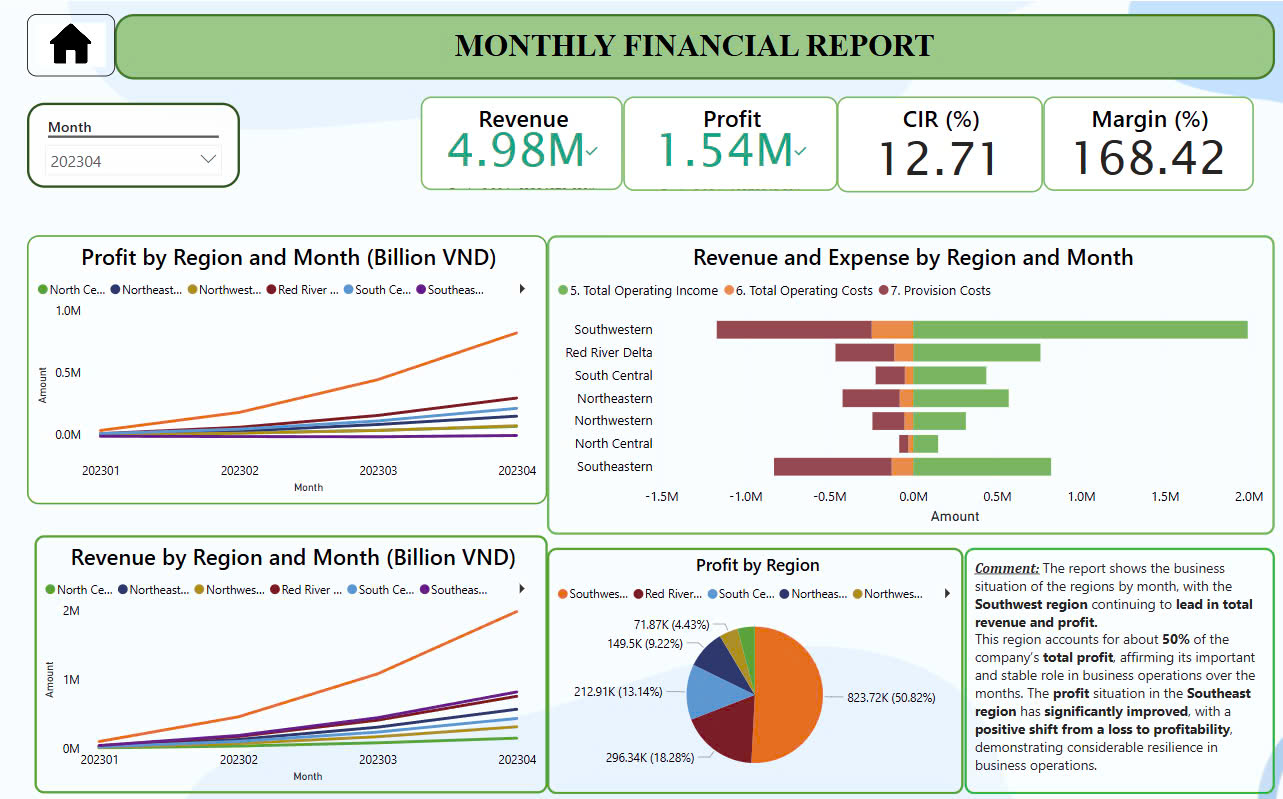

What the dashboard file says about the page in this screenshot:
{"tool":"powerbi","page":{"name":"FINANCIAL REPORT","canvas":[1280,800],"ordinal":5},"visuals":[{"type":"textbox","box":[90,0,1190,67.5],"z":0},{"type":"slicer","fields":{"Values":["month slicer.month_key"]},"box":[0,91,218,87],"z":1000},{"type":"kpi","title":"CIR (%)","fields":{"TrendLine":["Table.monthkey"],"Indicator":["Sum(Table.CalculatedAmount)"]},"box":[831,84,211,98],"z":2000},{"type":"kpi","title":"Margin (%)","fields":{"TrendLine":["Table.monthkey"],"Indicator":["Sum(Table.CalculatedAmount)"]},"box":[1042,85,216,97],"z":3000},{"type":"kpi","title":"Revenue","fields":{"TrendLine":["Table.monthkey"],"Indicator":["Sum(Table.CalculatedAmount)"],"Goal":["Sum(Table.MoMGrowth)"]},"box":[403.8,85,207.5,96.2],"z":4000},{"type":"kpi","title":"Profit","fields":{"TrendLine":["Table.monthkey"],"Indicator":["Sum(Table.CalculatedAmount)"],"Goal":["Sum(Table.MoMGrowth)"]},"box":[611,85,220,97],"z":5000},{"type":"lineChart","title":"Revenue by Region and Month (Billion VND)","fields":{"Y":["Sum(Table.CalculatedAmount)"],"Category":["Table.monthkey"],"Series":["Table.English_Region"]},"box":[7.5,535,526.2,265],"z":6000},{"type":"lineChart","title":"Profit by Region and Month (Billion VND)","fields":{"Y":["Sum(Table.CalculatedAmount)"],"Category":["Table.monthkey"],"Series":["Table.English_Region"]},"box":[0,227.5,533.8,276.2],"z":7000},{"type":"pieChart","title":"Profit by Region","fields":{"Y":["Sum(Table.CalculatedAmount)"],"Series":["Table.monthkey"],"Category":["Table.English_Region"]},"box":[533.8,547.5,427.5,252.5],"z":8000},{"type":"textbox","box":[961.2,547.5,318.8,252.5],"z":9000},{"type":"barChart","title":"Revenue and Expense by Region and Month","fields":{"Category":["Table.English_Region","Table.monthkey"],"Y":["Sum(Table.CalculatedAmount)"],"Series":["Table.English_Title"]},"box":[533.8,227.5,746.2,307.5],"z":10000},{"type":"image","box":[0,0,90,63.8],"z":11000}]}

Visuals, with their boxes in screenshot pixels (x1, y1, x2, y2), scaled from the page's 1280x800 canvas onto the 1283x799 screenshot:
textbox: rect(90, 0, 1282, 67)
slicer - month slicer.month_key: rect(0, 91, 219, 178)
"CIR (%)" kpi: rect(833, 84, 1044, 182)
"Margin (%)" kpi: rect(1044, 85, 1261, 182)
"Revenue" kpi: rect(405, 85, 613, 181)
"Profit" kpi: rect(612, 85, 833, 182)
"Revenue by Region and Month (Billion VND)" lineChart: rect(8, 534, 535, 798)
"Profit by Region and Month (Billion VND)" lineChart: rect(0, 227, 535, 503)
"Profit by Region" pieChart: rect(535, 547, 964, 798)
textbox: rect(963, 547, 1282, 798)
"Revenue and Expense by Region and Month" barChart: rect(535, 227, 1282, 534)
image: rect(0, 0, 90, 64)
